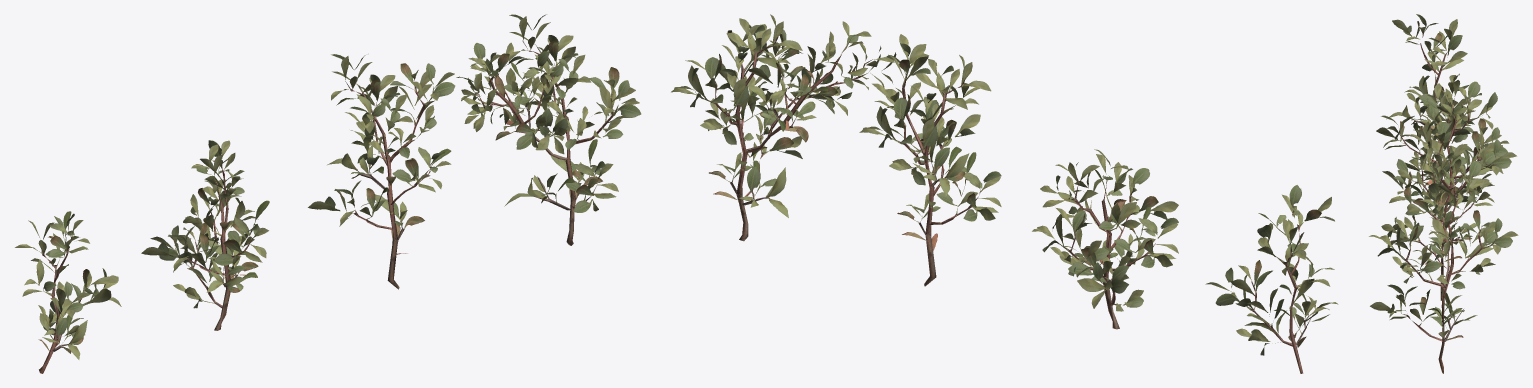
Rendered from shrub_04.glb.
The picture shows the model from 3 angles, left to right: view 1: azimuth 30°, elevation 25°; view 2: azimuth 150°, elevation 25°; view 3: azimuth 270°, elevation 25°; orthographic projection. The views are drawn at different scales.
Visible parts, largest first — view 1: shrub_04; view 2: shrub_04; view 3: shrub_04.
Boxes of the visible parts, bbox=[...] form: shrub_04: bbox=[15, 14, 641, 373]; shrub_04: bbox=[671, 14, 1338, 373]; shrub_04: bbox=[1369, 14, 1518, 373].
Size of the model in its own units: 0.5837 by 0.2185 by 0.1461.
Materials: 1 (1 with a texture image).
